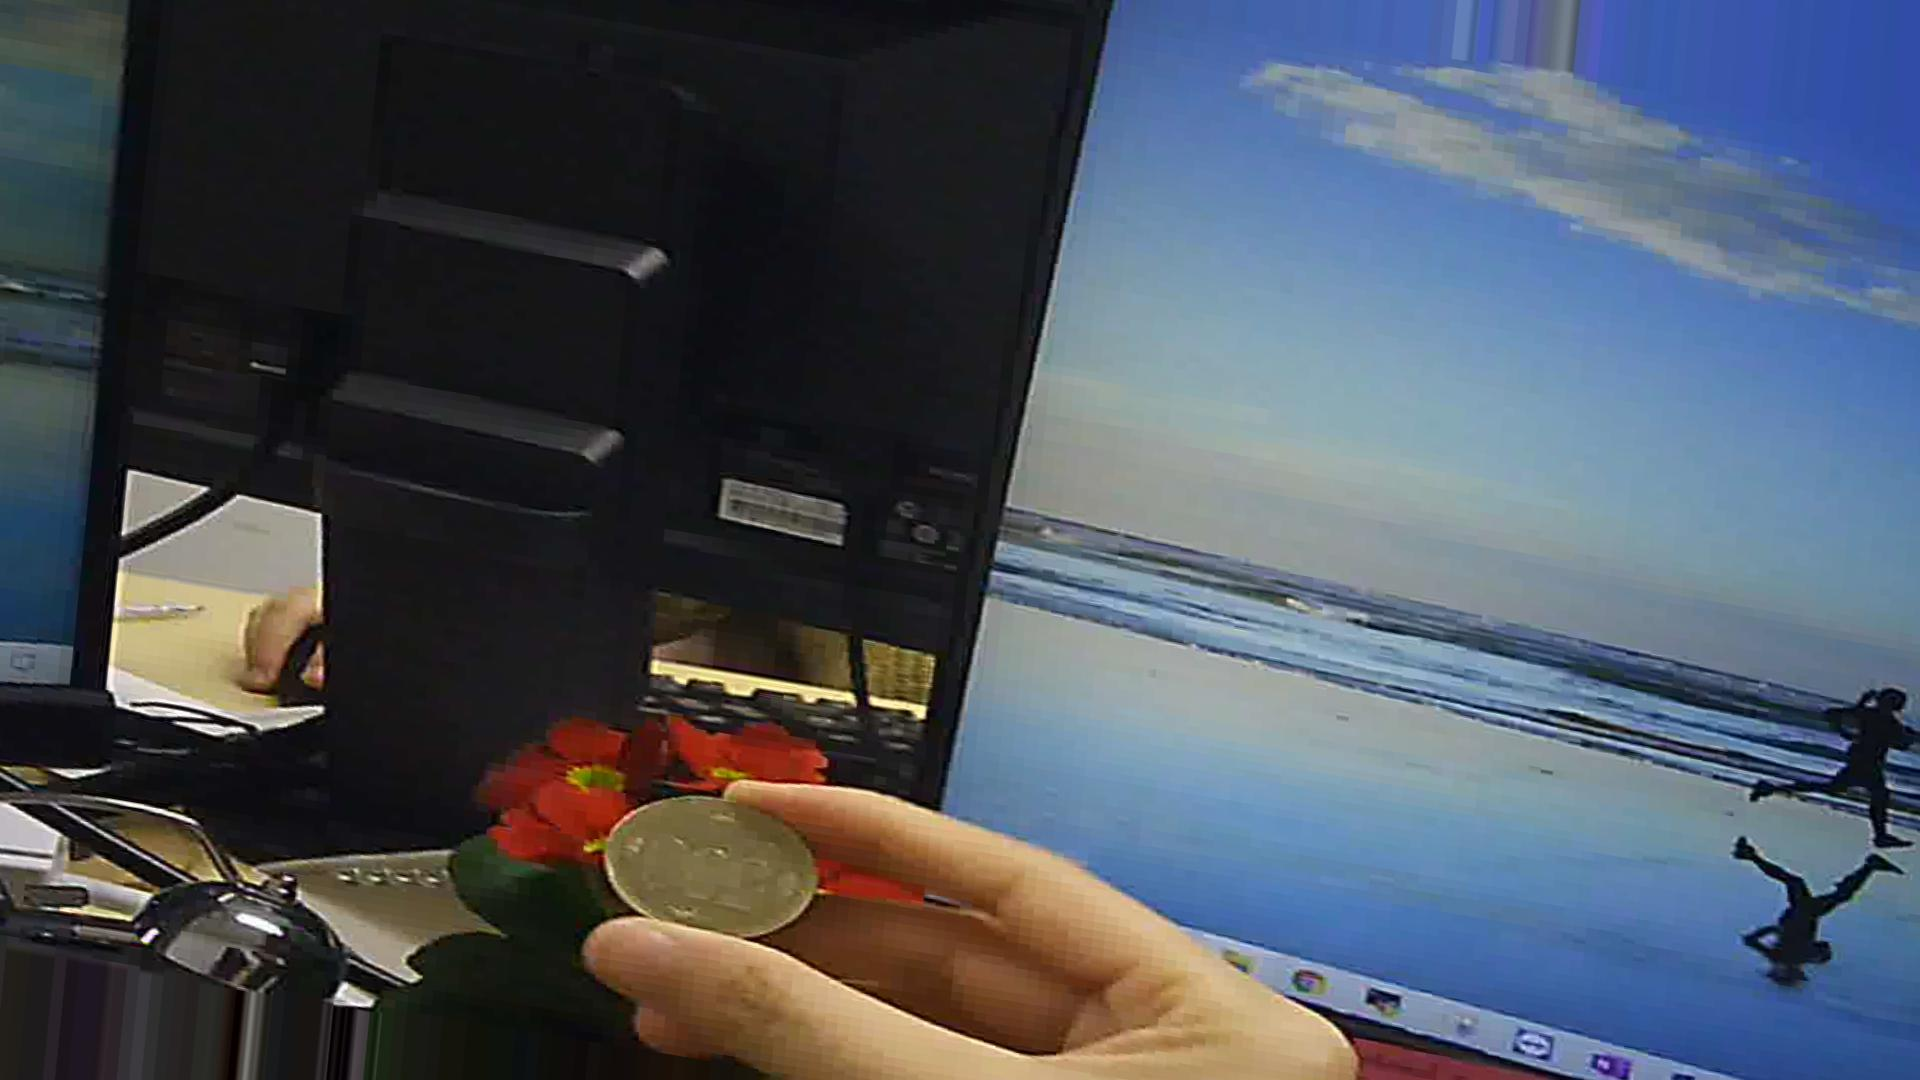500 Yen: (595, 793, 820, 945)
